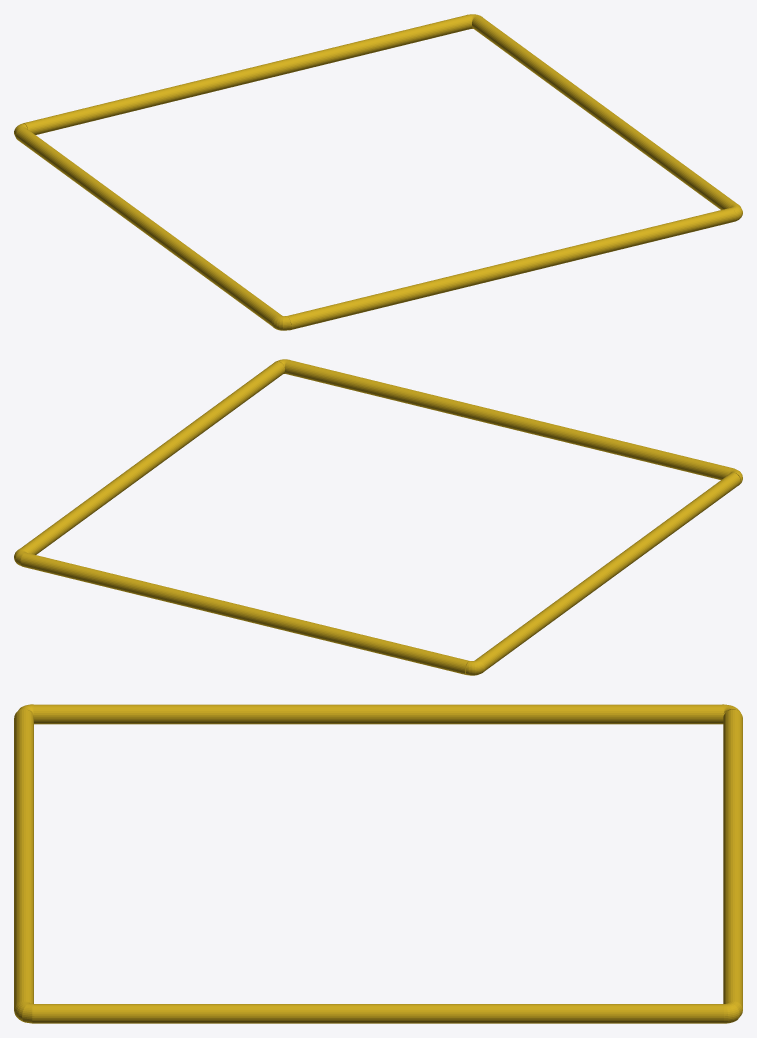
Rendered from sauvc_starting zone.fbx.
3 views of the same model, one above another, from view 1: azimuth 30°, elevation 25°; view 2: azimuth 150°, elevation 25°; view 3: azimuth 270°, elevation 25° (orthographic). The views are drawn at different scales.
Parts seen in each view (by area): view 1: Circle.004; view 2: Circle.004; view 3: Circle.004.
Boxes of the visible parts, <box> form: Circle.004: <box>14,14,742,330</box>; Circle.004: <box>14,359,742,675</box>; Circle.004: <box>14,704,742,1023</box>.
Bounding box in the file's own units: 148 × 4.02 × 148.
